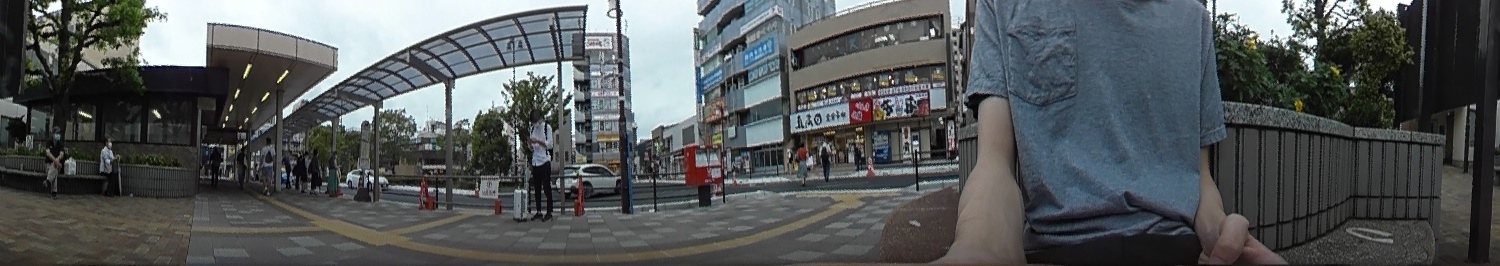difficult_person: (260, 135, 277, 194), (792, 141, 809, 185), (308, 148, 324, 194), (326, 148, 341, 197), (818, 138, 834, 182), (235, 141, 248, 186), (298, 147, 309, 191), (209, 145, 221, 179), (284, 147, 293, 190), (851, 143, 862, 170)
person: (521, 108, 555, 219), (97, 137, 128, 195), (40, 128, 63, 195)
